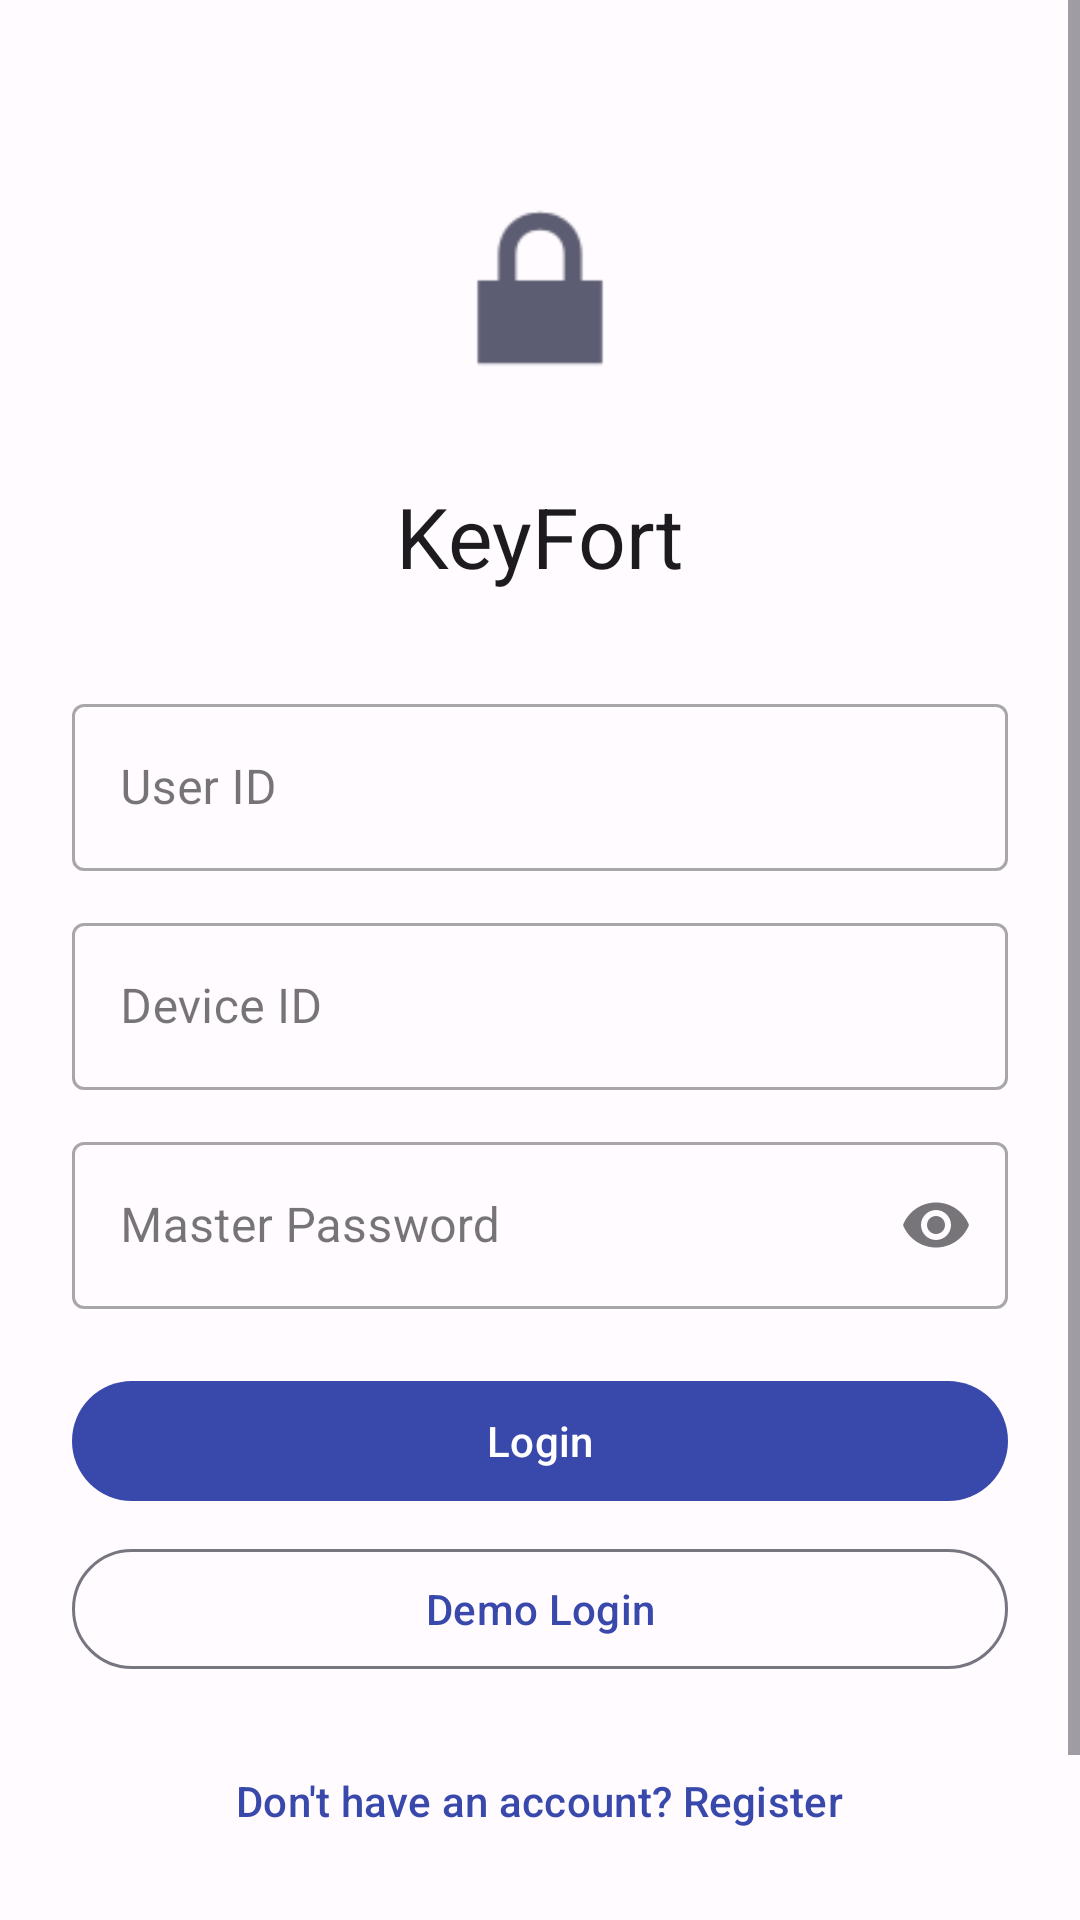

Icons on this 1080px x 1920px Android screen, each with the point to tap as (x=x, y=y):
lock: (x=540, y=288)
